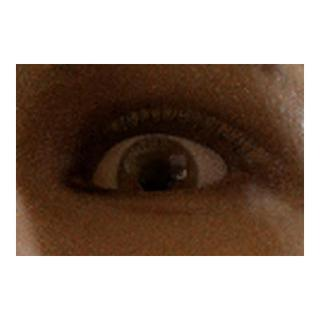pupil: (140, 160, 172, 193)
